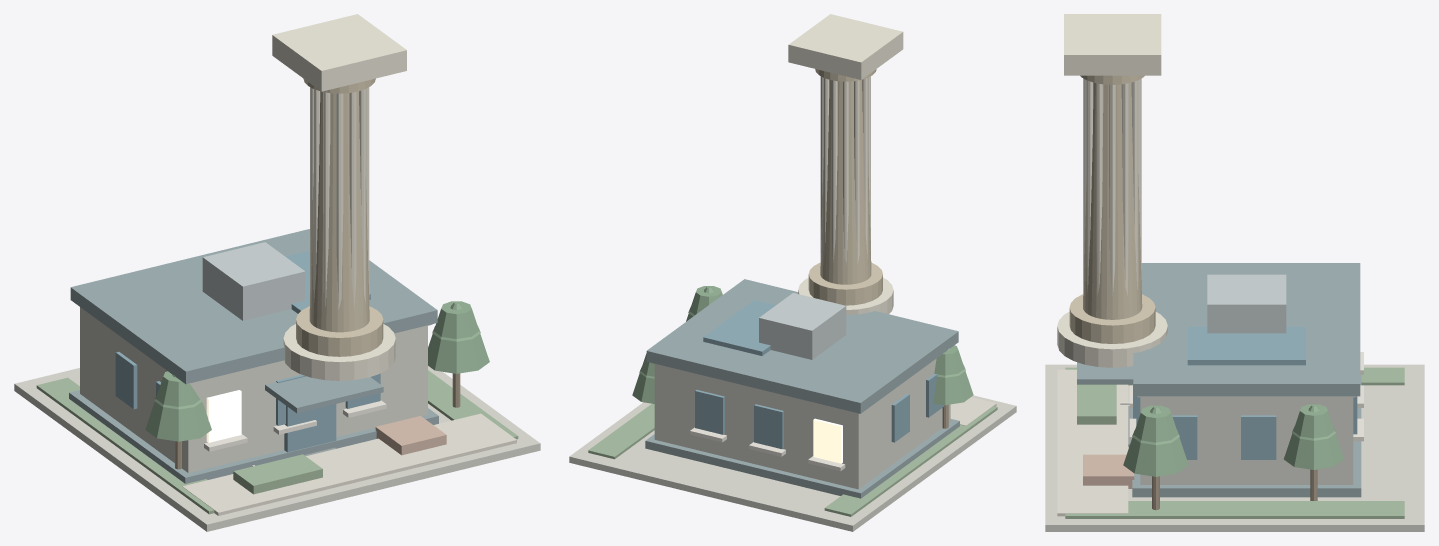
The model's file is remaster_house_8.glb.
The picture shows the model from 3 angles, left to right: view 1: azimuth 30°, elevation 25°; view 2: azimuth 150°, elevation 25°; view 3: azimuth 270°, elevation 25°; orthographic projection. The views are drawn at different scales.
Parts seen in each view (by area): view 1: remaster_house_8 stone, remaster_house_8 roof, remaster_house_8 cream, Tapered shaft.001, Capital.001, remaster_house_8 leaf, remaster_house_8 green, remaster_house_8 metal, remaster_house_8 glass, Column foot.001, Column ring.001, remaster_house_8 brick (+9 smaller); view 2: remaster_house_8 stone, remaster_house_8 roof, Tapered shaft.001, remaster_house_8 glass, Capital.001, remaster_house_8 metal, remaster_house_8 green, remaster_house_8 leaf, Column ring.001, remaster_house_8 warm, Fluted shaft detail.016, Column foot.001 (+7 smaller); view 3: remaster_house_8 stone, remaster_house_8 roof, remaster_house_8 green, Tapered shaft.001, remaster_house_8 glass, remaster_house_8 cream, remaster_house_8 leaf, Capital.001, remaster_house_8 metal, Column foot.001, Column ring.001, remaster_house_8 brick (+10 smaller).
Boxes of the visible parts, x1,y1,x2,y2 form: remaster_house_8 stone: [14, 307, 540, 531]; remaster_house_8 roof: [69, 229, 438, 483]; remaster_house_8 cream: [182, 413, 516, 515]; Tapered shaft.001: [309, 91, 369, 332]; Capital.001: [272, 14, 406, 91]; remaster_house_8 leaf: [145, 301, 489, 441]; remaster_house_8 green: [36, 370, 518, 514]; remaster_house_8 metal: [202, 242, 305, 320]; remaster_house_8 glass: [115, 250, 380, 452]; Column foot.001: [283, 324, 395, 380]; Column ring.001: [296, 306, 383, 356]; remaster_house_8 brick: [375, 416, 446, 455]; remaster_house_8 stone: [569, 358, 1016, 531]; remaster_house_8 roof: [645, 279, 959, 498]; Tapered shaft.001: [820, 80, 871, 284]; remaster_house_8 glass: [695, 300, 944, 448]; Capital.001: [788, 14, 903, 79]; remaster_house_8 metal: [759, 293, 846, 359]; remaster_house_8 green: [588, 403, 997, 516]; remaster_house_8 leaf: [632, 286, 973, 405]; Column ring.001: [808, 262, 882, 305]; remaster_house_8 warm: [813, 418, 842, 463]; Fluted shaft detail.016: [843, 81, 848, 265]; Column foot.001: [798, 277, 893, 314]; remaster_house_8 stone: [1045, 364, 1424, 531]; remaster_house_8 roof: [1077, 263, 1361, 497]; remaster_house_8 green: [1065, 367, 1404, 518]; Tapered shaft.001: [1083, 82, 1142, 319]; remaster_house_8 glass: [1133, 326, 1357, 459]; remaster_house_8 cream: [1057, 369, 1128, 516]; remaster_house_8 leaf: [1123, 404, 1343, 476]; Capital.001: [1064, 14, 1161, 75]; remaster_house_8 metal: [1207, 274, 1286, 333]; Column foot.001: [1057, 311, 1167, 367]; Column ring.001: [1069, 294, 1155, 343]; remaster_house_8 brick: [1083, 454, 1134, 488].
Bounding box in the file's own units: 9.64 × 11.66 × 9.6.
